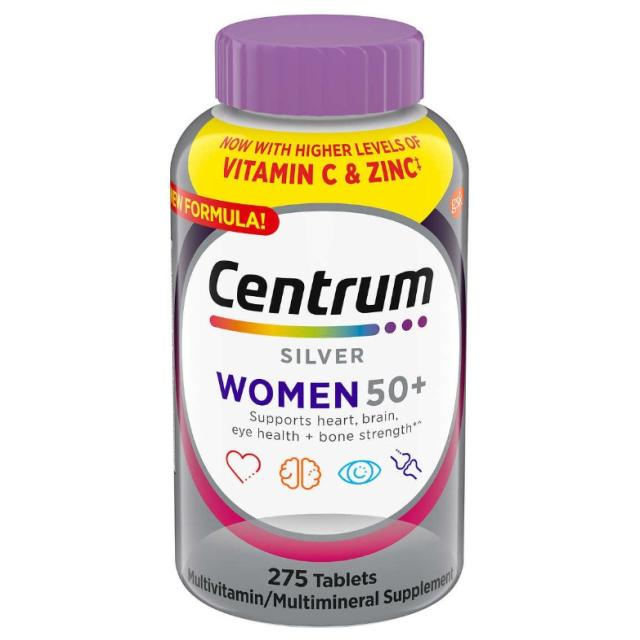food-supliment: (188, 120, 451, 612)
